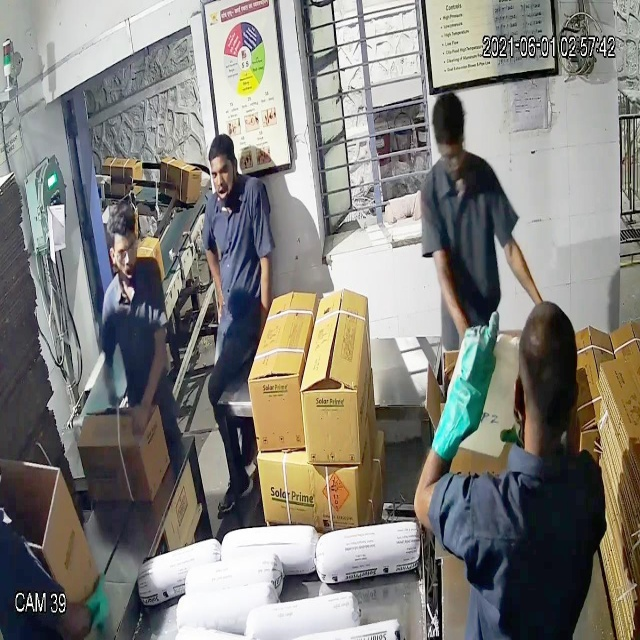Gafas: (104, 237, 145, 268)
